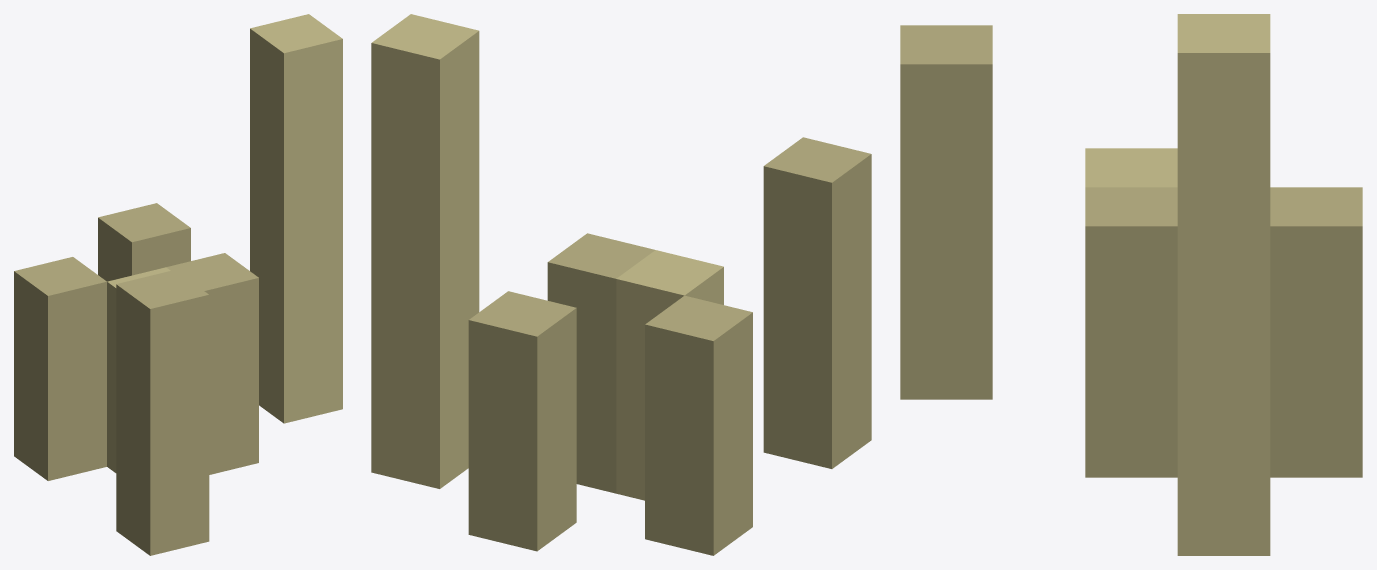
Rendered from hierba_de_estepa_05.glb.
3 renders of one model, left to right at view 1: azimuth 30°, elevation 25°; view 2: azimuth 150°, elevation 25°; view 3: azimuth 270°, elevation 25°, orthographic. The views are drawn at different scales.
Parts seen in each view (by area): view 1: hierba_de_estepa_05; view 2: hierba_de_estepa_05; view 3: hierba_de_estepa_05.
Boxes of the visible parts, left/top/right/bottom form: hierba_de_estepa_05: left=14, top=14, right=342, bottom=555; hierba_de_estepa_05: left=371, top=14, right=871, bottom=555; hierba_de_estepa_05: left=900, top=14, right=1362, bottom=555.
Bounding box in the file's own units: 0.5 × 0.6 × 0.5.
